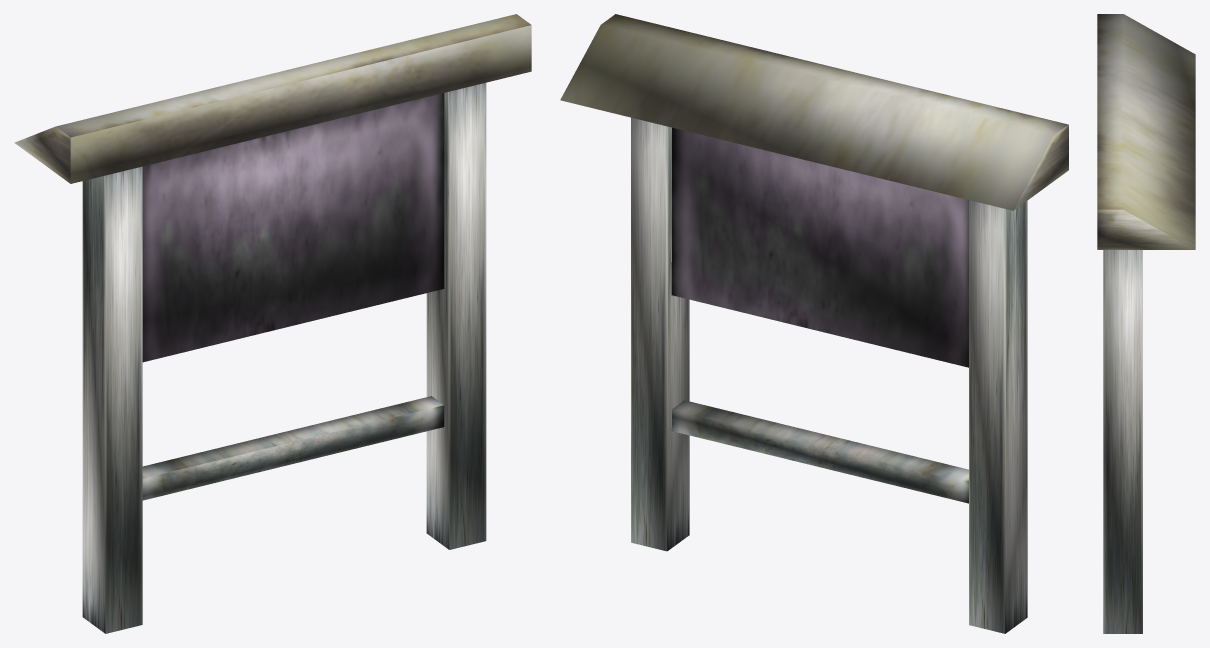
File: metal_post.DAE
The picture shows the model from 3 angles, left to right: view 1: azimuth 30°, elevation 25°; view 2: azimuth 150°, elevation 25°; view 3: azimuth 270°, elevation 25°; orthographic projection. The views are drawn at different scales.
Parts seen in each view (by area): view 1: Box04; view 2: Box04; view 3: Box04.
Part boxes in pixels (x1,y1,x2,y2): Box04: (14, 14, 531, 633); Box04: (560, 14, 1068, 633); Box04: (1097, 14, 1195, 633).
Bounding box in the file's own units: 2.21 × 2.33 × 0.4687.
